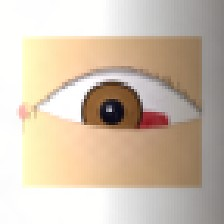hemorrhage_spot: (116, 100, 177, 148)
